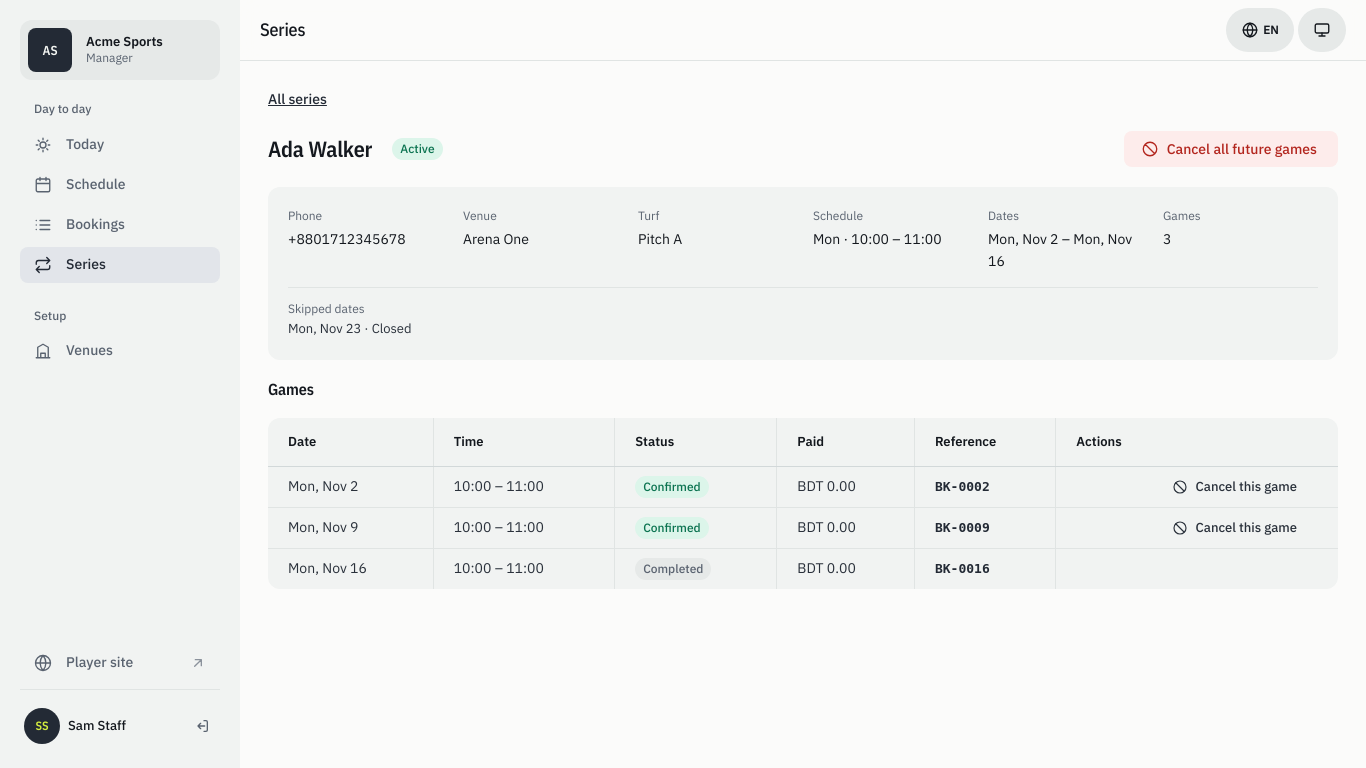
Test: Owner series detail › cancel all future posts and shows kept dates
Expected: the heading "Skipped dates" is shown, [288,301,365,316]
Expected: the list item "Closed" is shown, [372,320,412,338]
Step 1. Click the button "Cancel all future games" → (1231,149), box [1124,131,1338,167]
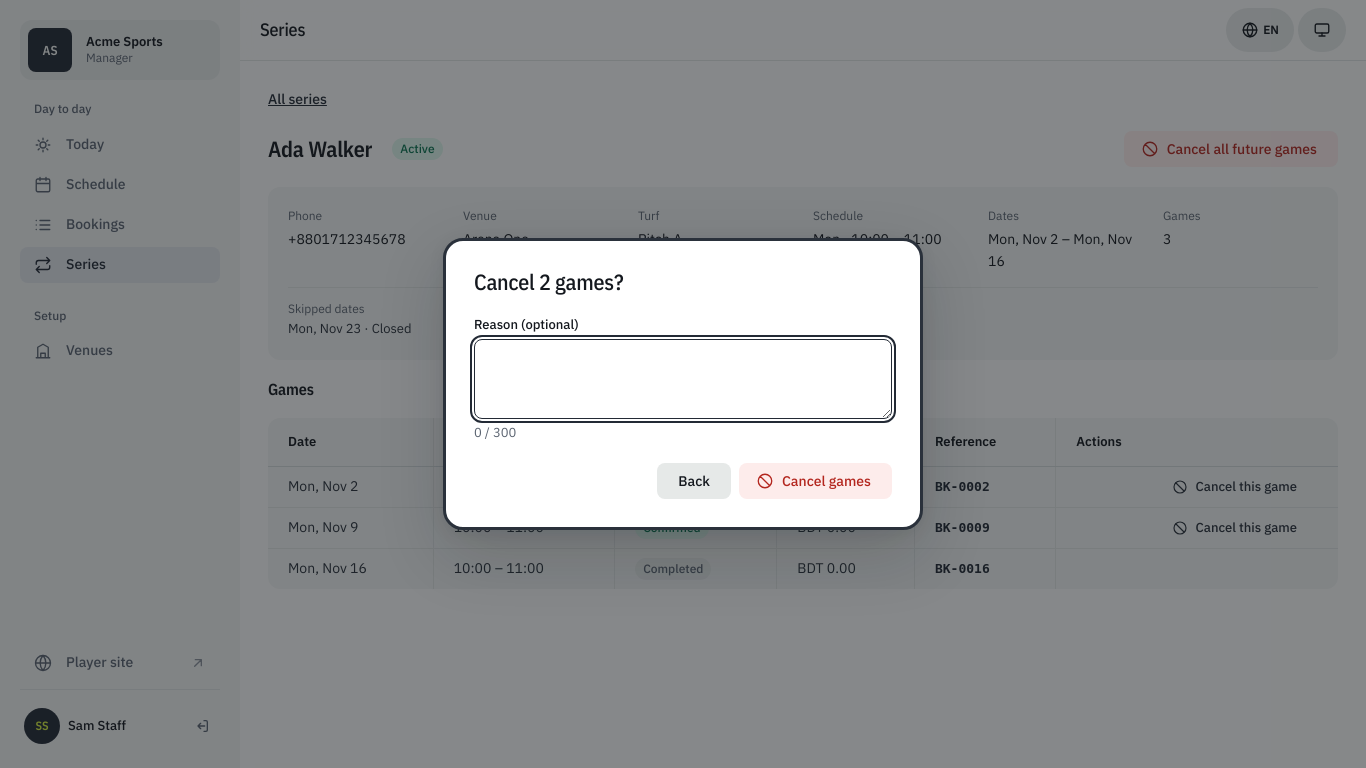
Expected: the heading "Cancel 2 games?" is shown, [474,267,623,296]
Step 2. Click the button "Cancel games" → (816,481), box [739,463,892,499]
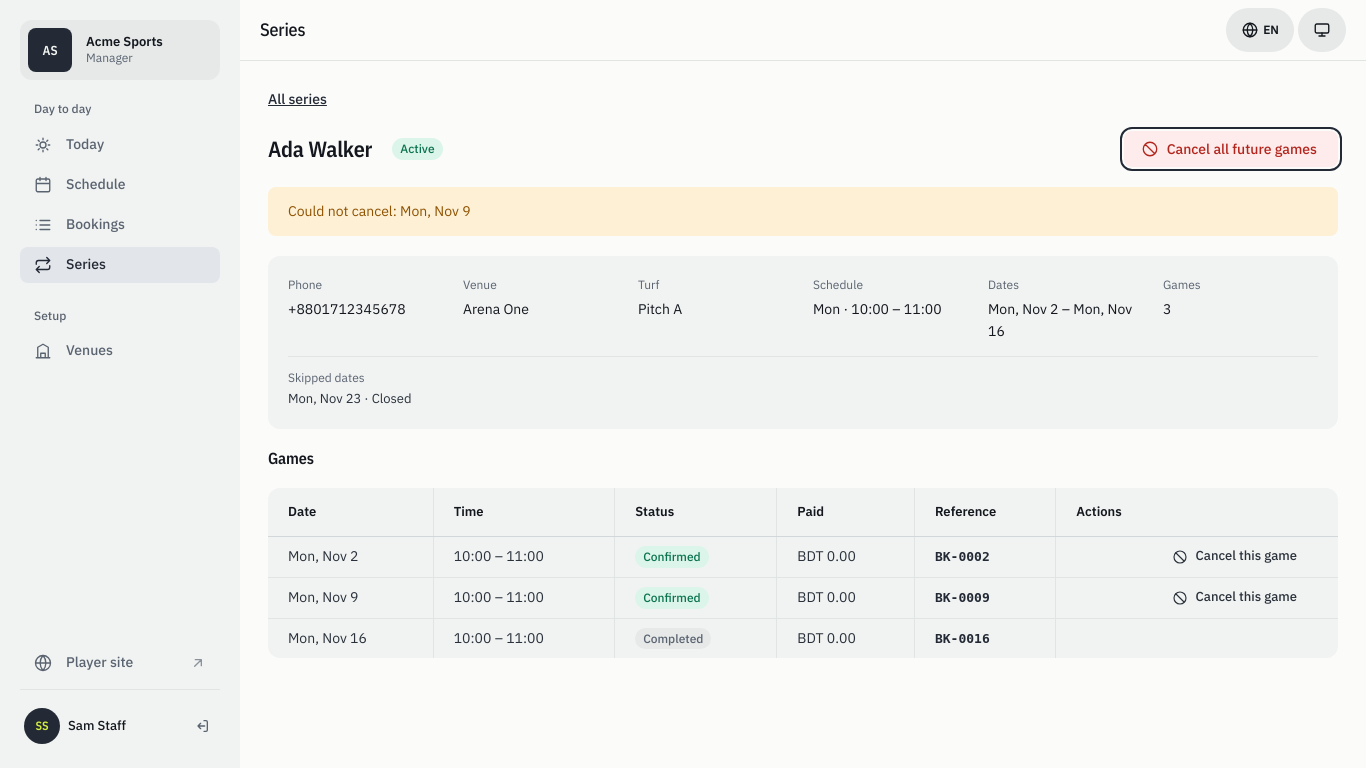
Expected: the text "Could not cancel: Mon, Nov 9" is shown, [268,187,1338,236]
Expected: the number of buttons "Cancel this game" is 2, [1154,541,1318,573]; [1154,582,1318,614]
